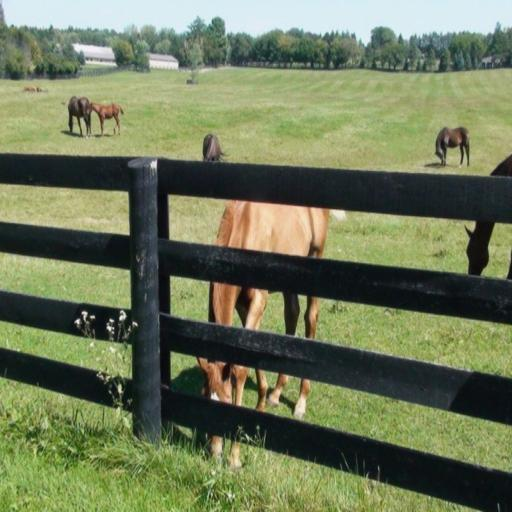horse: (196, 197, 330, 467), (463, 152, 511, 280), (435, 125, 472, 168), (84, 99, 125, 136), (66, 94, 88, 136), (201, 132, 225, 166)
